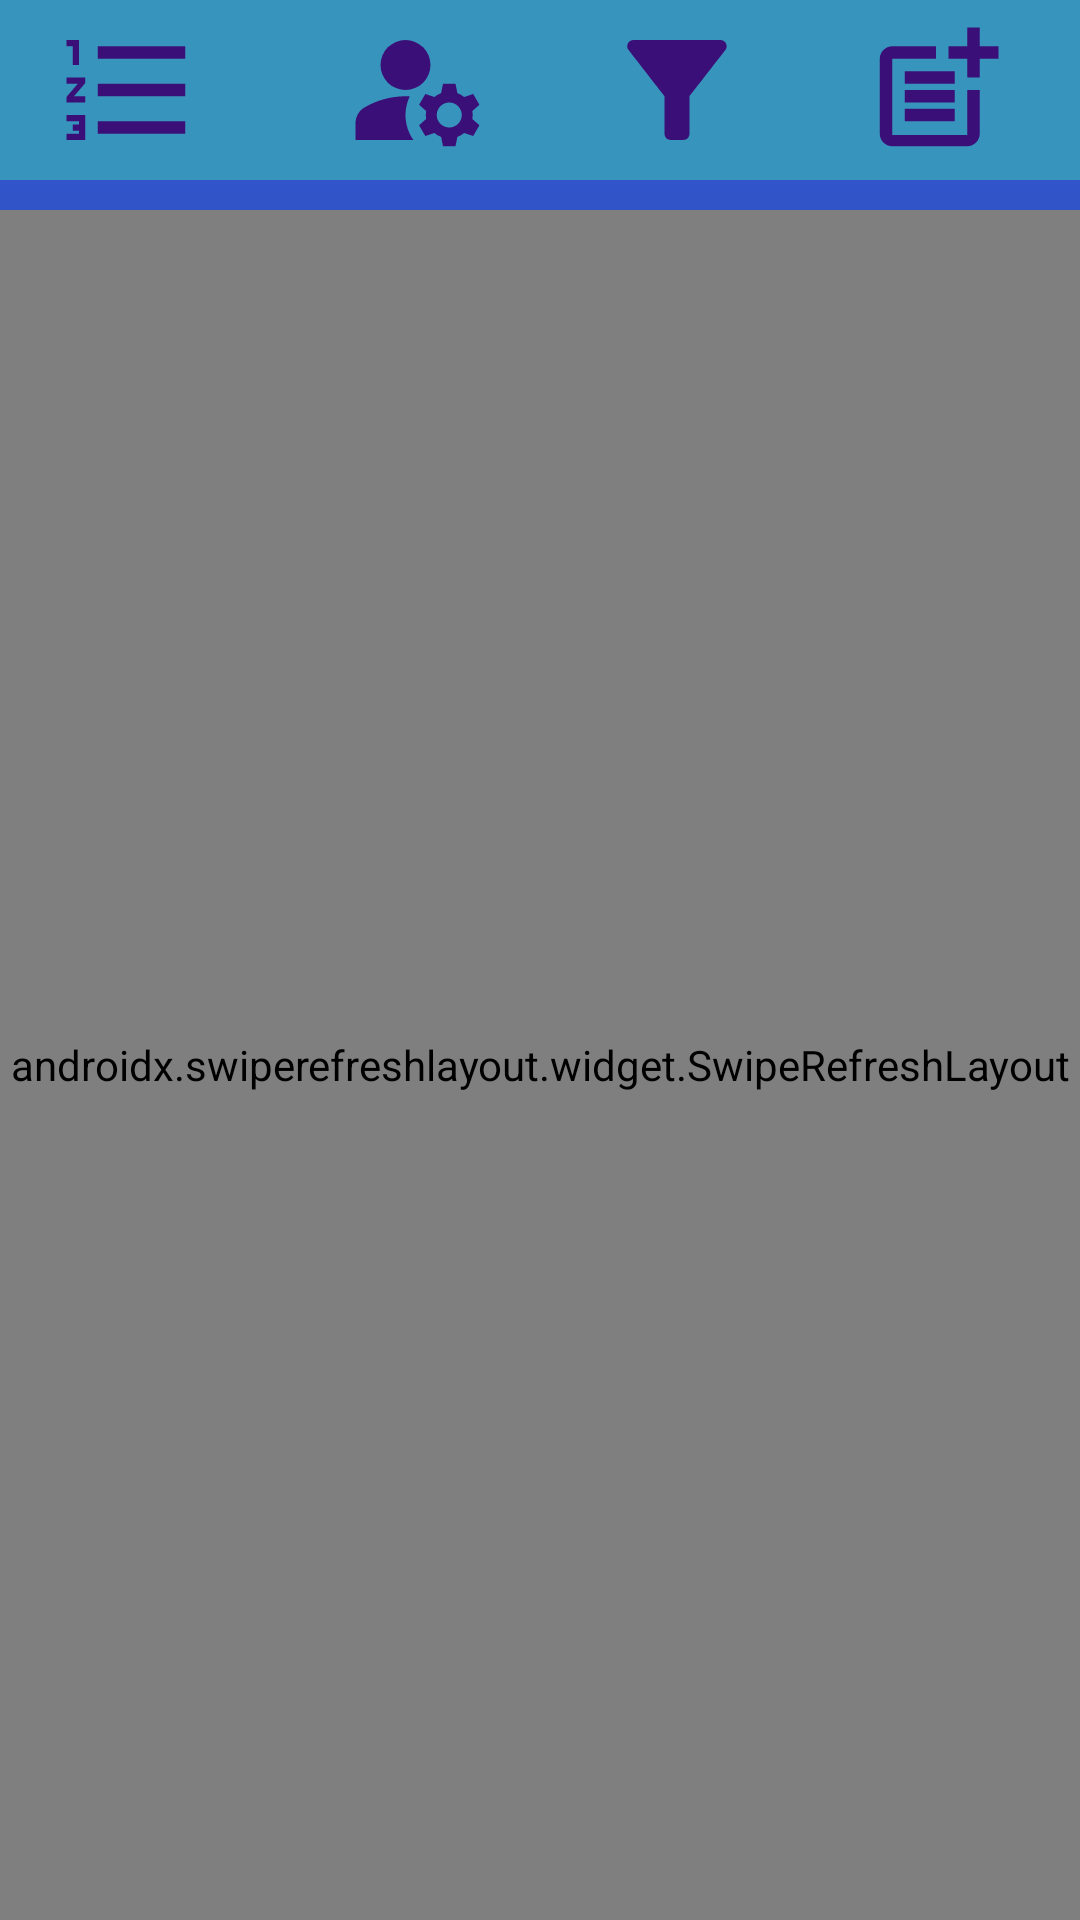

Screen size 1080px x 1920px. Icon name, then its box in pixels as region(x1, y1, x2, y2):
filter: region(627, 40, 727, 140)
format list numbered: region(66, 40, 186, 140)
manage accounts: region(355, 40, 480, 147)
post add: region(879, 27, 999, 147)
